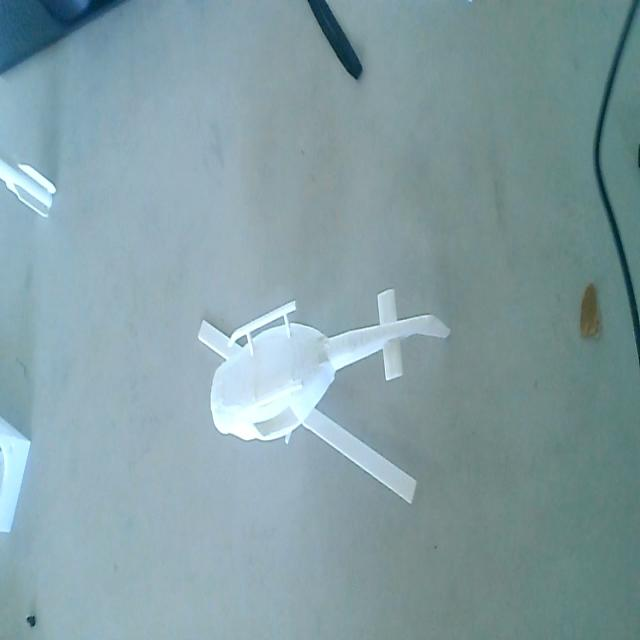Helicopter: (193, 281, 456, 515), (0, 155, 61, 228)
